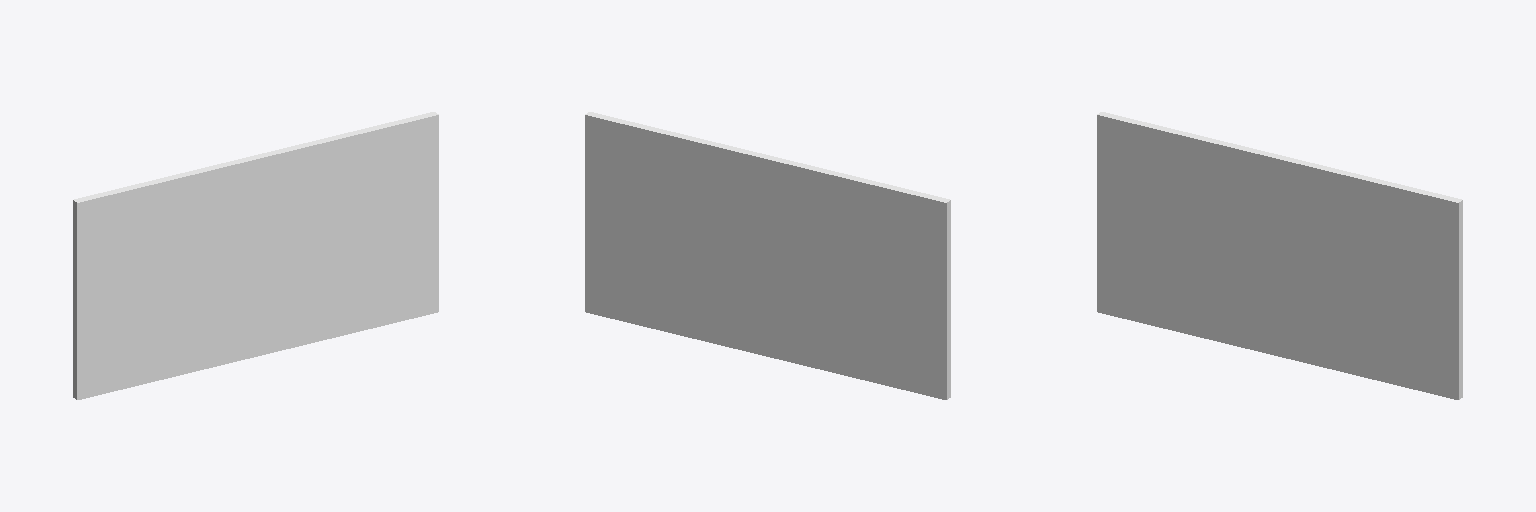
The model's file is Cell_Wall_4.obj.
3 renders of one model, left to right at view 1: azimuth 30°, elevation 25°; view 2: azimuth 150°, elevation 25°; view 3: azimuth 330°, elevation 25°, orthographic.
Size of the model in its own units: 46 by 24 by 1.